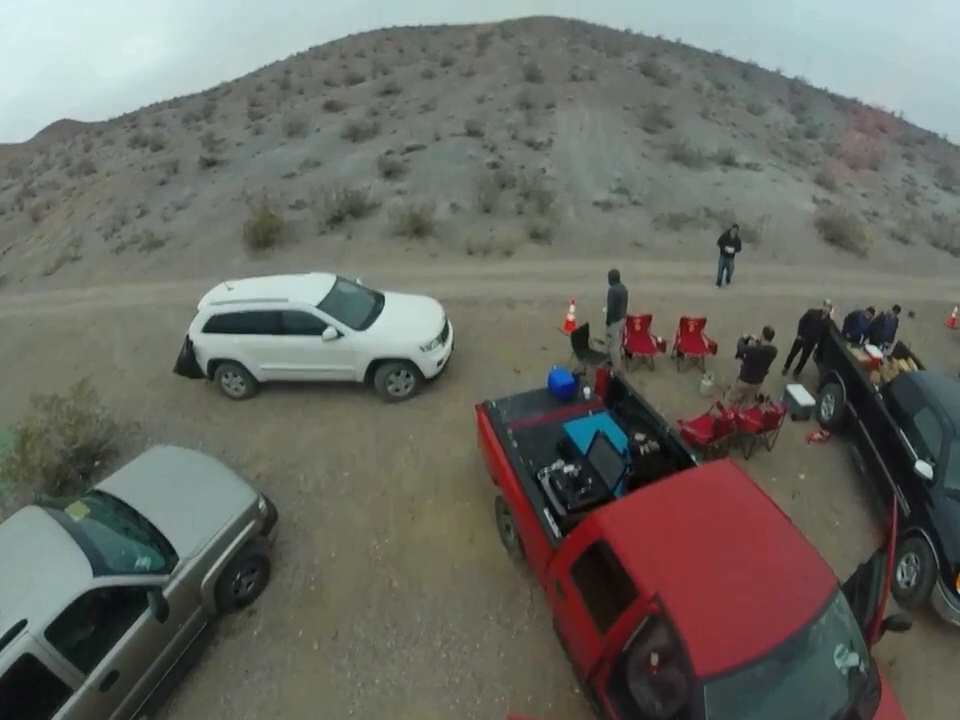araba: (1, 436, 281, 717), (175, 272, 459, 402)
insan: (730, 322, 777, 414), (781, 299, 832, 381), (604, 264, 634, 374), (714, 223, 740, 290), (843, 305, 878, 349), (886, 302, 906, 346)
kamyonet: (461, 368, 917, 718), (836, 308, 960, 630)
